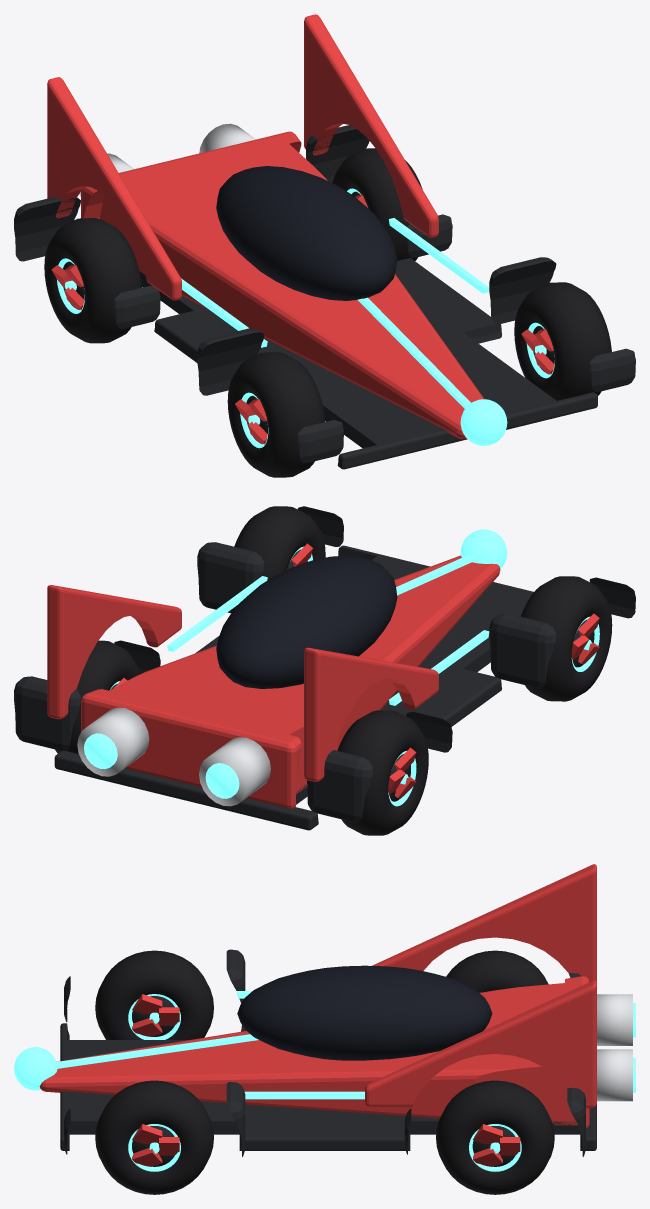
File: kart-laser.glb
The picture shows the model from 3 angles, top to bottom: view 1: azimuth 30°, elevation 25°; view 2: azimuth 150°, elevation 25°; view 3: azimuth 270°, elevation 25°; orthographic projection. The views are drawn at different scales.
Visible parts, largest first — view 1: Hull.009, Box.045, Ball.009, Wheel_RL.004, Wheel_FL.004, Hull.013, Hull.010, Wheel_FR.004, Hull.011, Hull.014, Hull.012, Wheel_RR.004 (+6 smaller); view 2: Hull.009, Ball.009, Box.045, Hull.013, Hull.010, Wheel_RL.004, Wheel_FL.004, Hull.011, Hull.012, Wheel_FR.004, Hull.014, Hull.015 (+9 smaller); view 3: Hull.009, Ball.009, Box.045, Hull.013, Wheel_FR.004, Wheel_RR.004, Hull.010, Wheel_FL.004, Wheel_RL.004, Cyl.009, Cyl.007, Box.048 (+5 smaller).
Boxes of the visible parts, x1,y1,x2,y2 form: Hull.009: (81, 131, 484, 439); Box.045: (139, 258, 597, 469); Ball.009: (216, 166, 397, 300); Wheel_RL.004: (44, 218, 141, 343); Wheel_FL.004: (227, 352, 325, 477); Hull.013: (304, 14, 438, 237); Hull.010: (47, 77, 181, 300); Wheel_FR.004: (514, 282, 611, 400); Hull.011: (197, 328, 343, 463); Hull.014: (489, 257, 635, 391); Hull.012: (14, 196, 160, 328); Wheel_RR.004: (332, 148, 422, 260); Hull.009: (81, 555, 500, 808); Ball.009: (216, 555, 397, 688); Box.045: (54, 545, 533, 830); Hull.013: (47, 585, 181, 719); Hull.010: (304, 647, 438, 781); Wheel_RL.004: (337, 710, 428, 835); Wheel_FL.004: (521, 576, 612, 701); Hull.011: (489, 577, 635, 688); Hull.012: (307, 711, 452, 822); Wheel_FR.004: (234, 506, 325, 580); Hull.014: (197, 506, 343, 613); Hull.015: (14, 640, 160, 751); Hull.009: (39, 976, 589, 1128); Ball.009: (237, 965, 492, 1060); Box.045: (60, 1023, 596, 1150); Hull.013: (365, 980, 596, 1108); Wheel_FR.004: (95, 1080, 213, 1194); Wheel_RR.004: (436, 1080, 554, 1194); Hull.010: (372, 864, 596, 982); Wheel_FL.004: (95, 950, 213, 1039); Wheel_RL.004: (446, 950, 548, 992); Cyl.009: (597, 1049, 632, 1101); Cyl.007: (597, 994, 632, 1045); Box.048: (56, 1034, 258, 1068).
Bounding box in the file's own units: 2.64 × 1.54 × 4.29.
